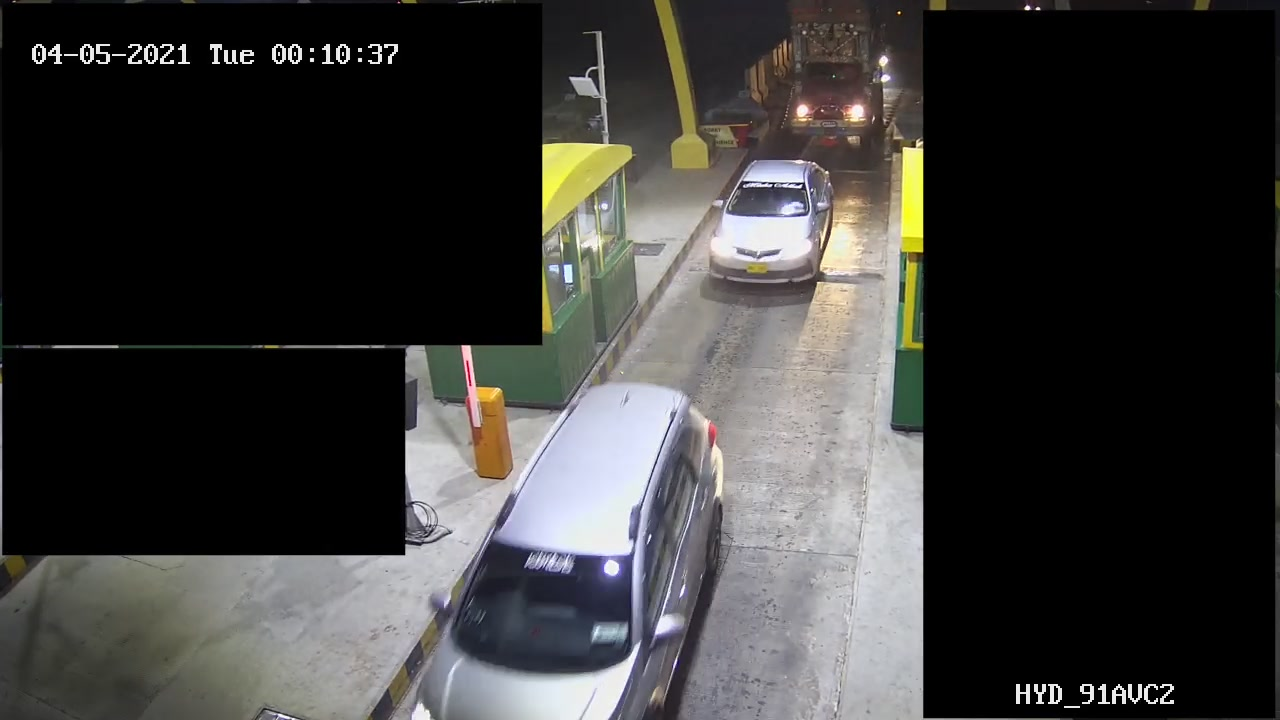F1: (685, 155, 848, 294)
